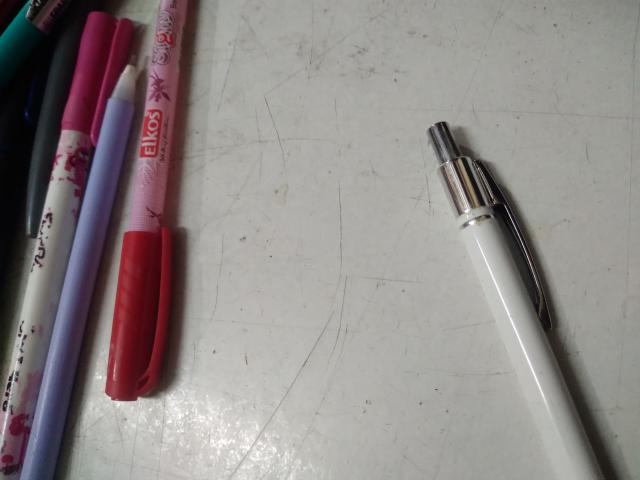PEN: (92, 50, 480, 225), (3, 429, 411, 480)
